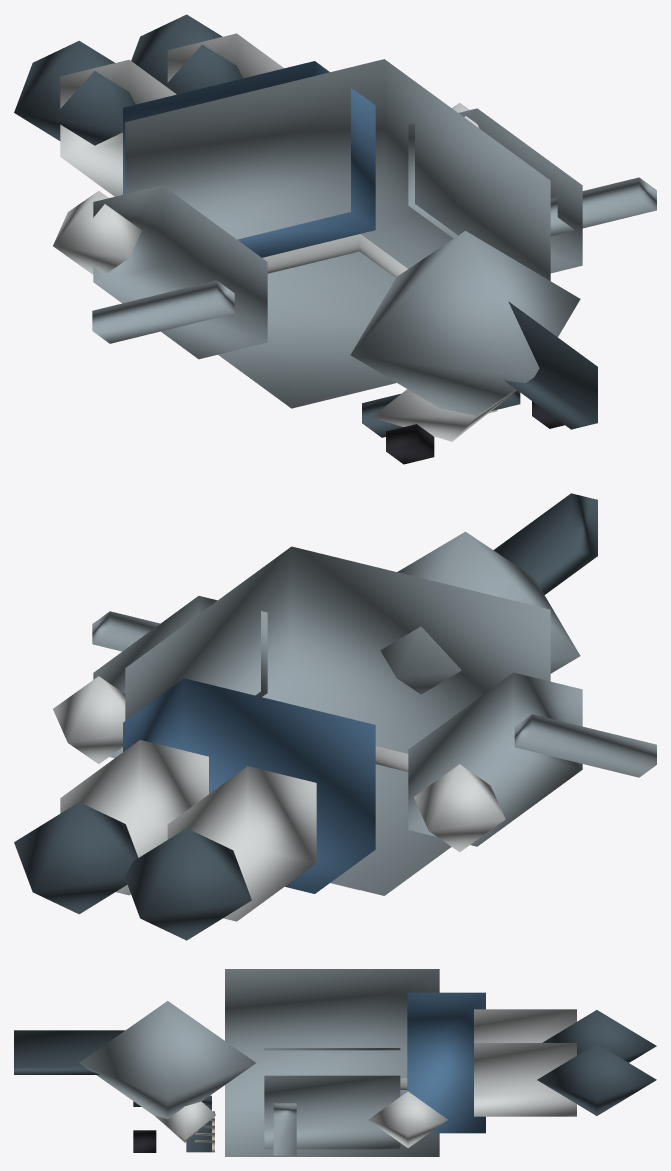
File: ajax.glb
The picture shows the model from 3 angles, top to bottom: view 1: azimuth 30°, elevation 25°; view 2: azimuth 150°, elevation 25°; view 3: azimuth 270°, elevation 25°; orthographic projection. The views are drawn at different scales.
Visible parts, largest first — view 1: Ajax_GLTF; view 2: Ajax_GLTF; view 3: Ajax_GLTF.
Part boxes in pixels (x1=…): Ajax_GLTF: x1=14, y1=14, x2=656, y2=464; Ajax_GLTF: x1=14, y1=493, x2=656, y2=940; Ajax_GLTF: x1=14, y1=969, x2=656, y2=1156.
Bounding box in the file's own units: 2.85 × 1.1 × 4.49.
